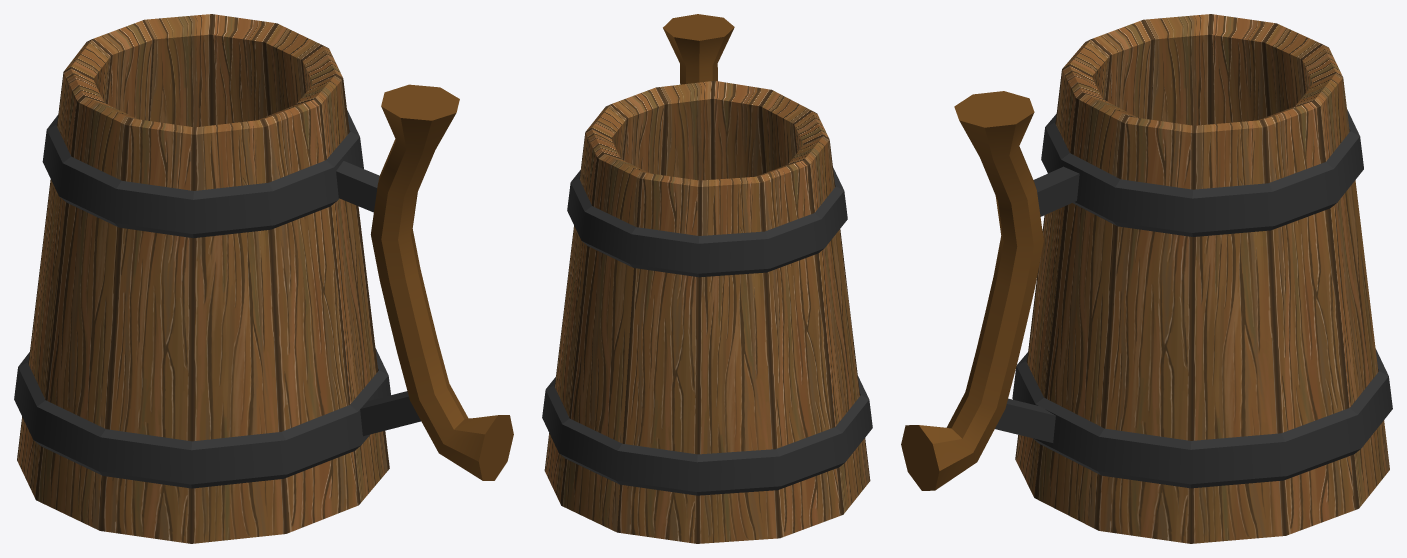
File: Tankard_2.fbx
The picture shows the model from 3 angles, left to right: view 1: azimuth 30°, elevation 25°; view 2: azimuth 150°, elevation 25°; view 3: azimuth 270°, elevation 25°; orthographic projection. The views are drawn at different scales.
Visible parts, largest first — view 1: 1_Tankard; view 2: 1_Tankard; view 3: 1_Tankard.
Part boxes in pixels (box(x1,y1,x2,y2)): 1_Tankard: box(14, 14, 513, 543); 1_Tankard: box(542, 14, 872, 543); 1_Tankard: box(901, 14, 1392, 543).
Bounding box in the file's own units: 15.62 × 17.92 × 19.27.
